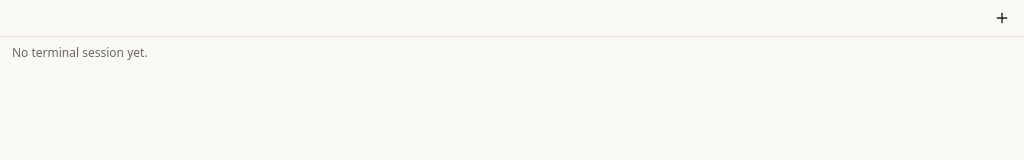
TerminalPanel › reports a backend that refuses to open another session
This screenshot has width=1024, height=160.
Expected: the text "No terminal session yet." is shown, [12,44,148,61]
Click the button named "New terminal session" at (1002, 18), box [988,4,1016,32]
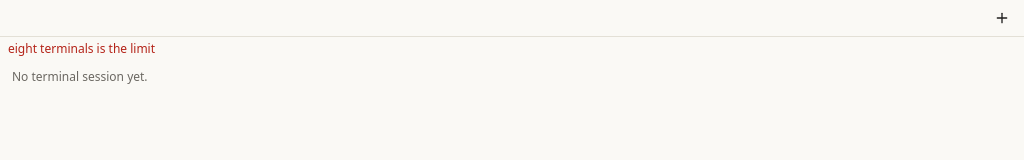
Expected: the message reads "eight terminals is the limit", [8,40,155,57]
